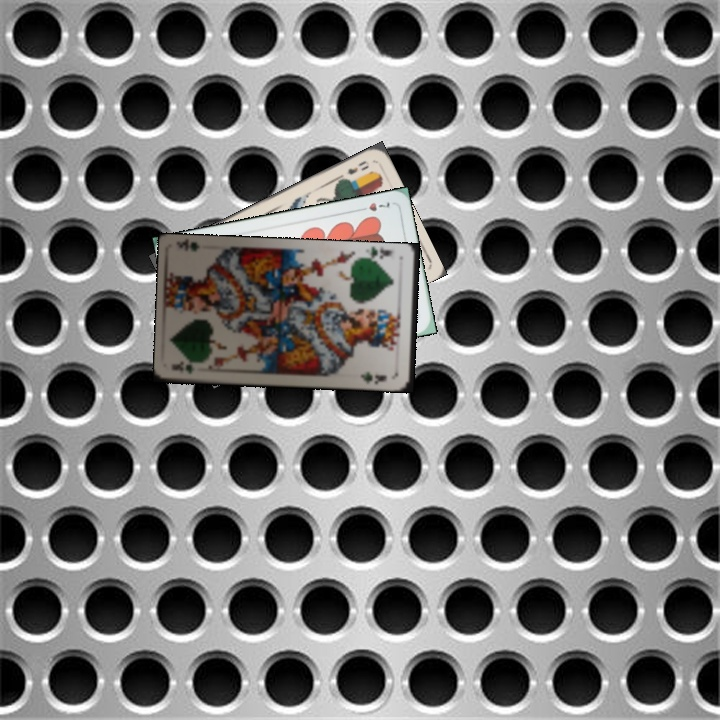EO: (336, 156, 371, 183)
GK: (362, 245, 395, 265), (174, 358, 197, 376)
H7: (354, 198, 392, 214)
